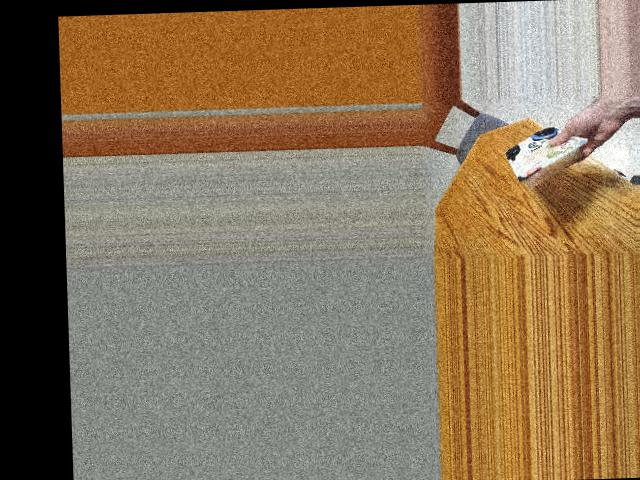cheese: (508, 116, 576, 195)
